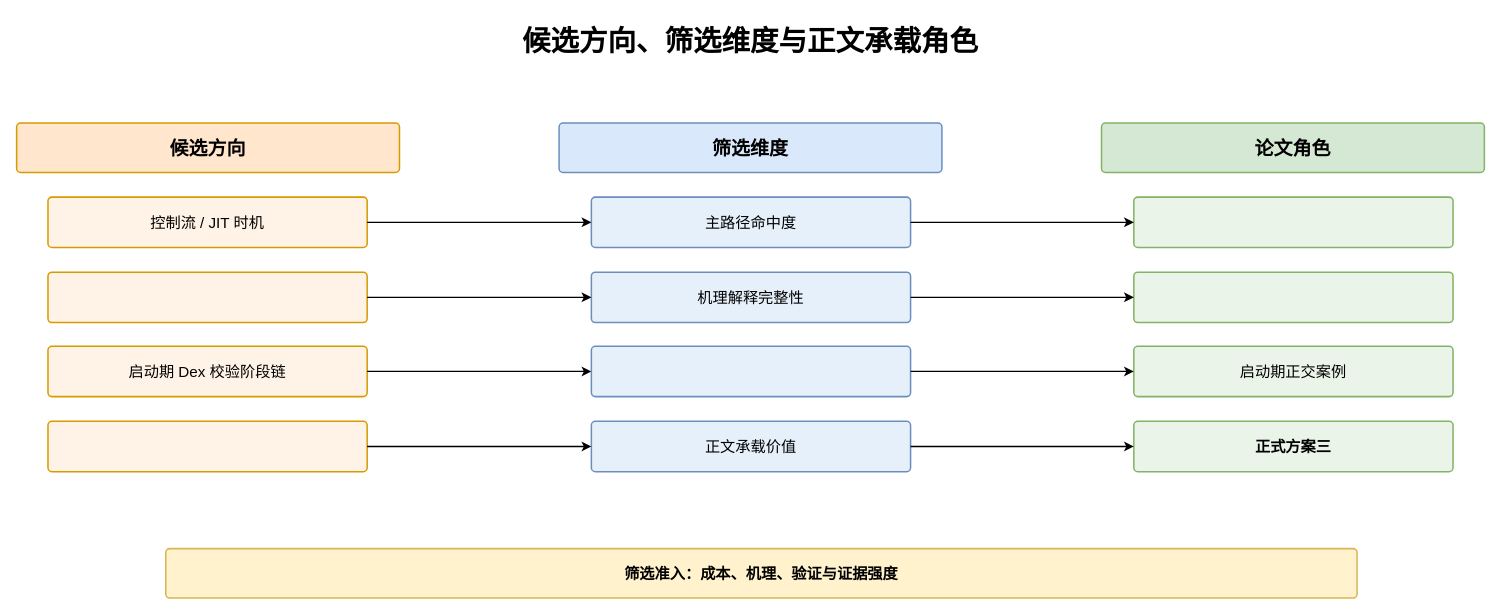
Image size: 1502x615. Some labels were removed from this diagram. The shapes that lost their labels are listed below. From the top down, each one's centre as x and y in pixels, then its label:
At point (1293, 222): "正式方案一".
At point (207, 297): "运行时字符串热路径".
At point (1293, 297): "正式方案二".
At point (750, 371): "可验证回归集合".
At point (207, 446): "LoongArch64 向量化 / lowering".
